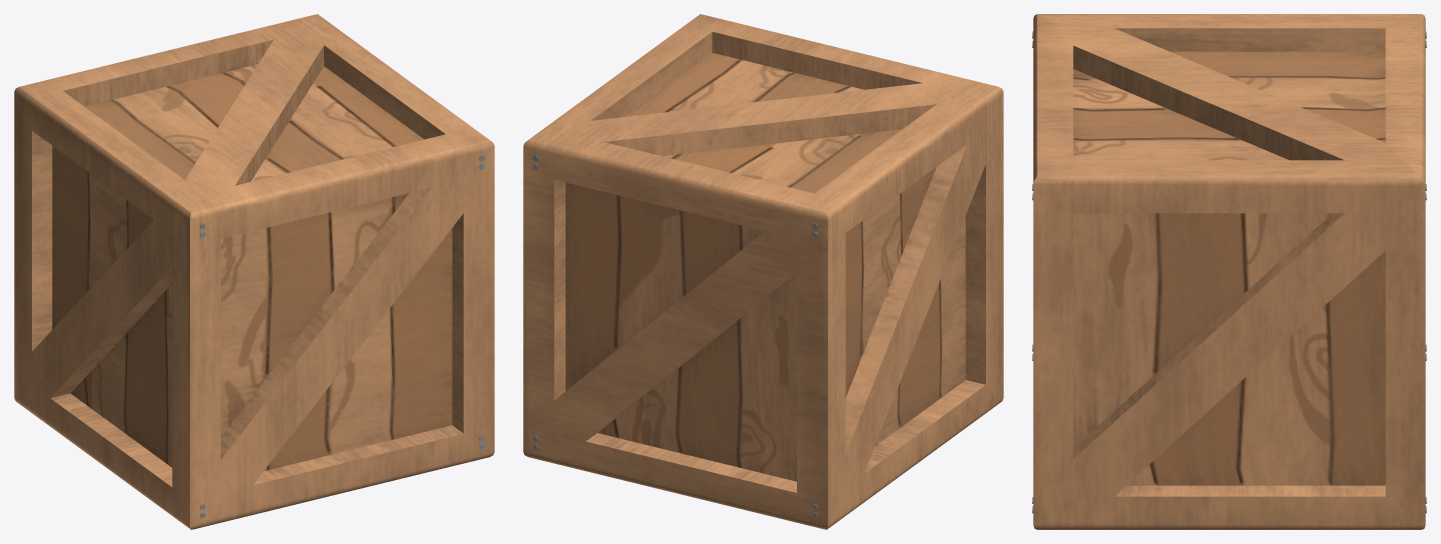
The model's file is wooden box_B.fbx.
The picture shows the model from 3 angles, left to right: view 1: azimuth 30°, elevation 25°; view 2: azimuth 150°, elevation 25°; view 3: azimuth 270°, elevation 25°; orthographic projection. The views are drawn at different scales.
Visible parts, largest first — view 1: wooden box_B; view 2: wooden box_B; view 3: wooden box_B.
Boxes of the visible parts, bbox=[...] form: wooden box_B: bbox=[14, 14, 494, 529]; wooden box_B: bbox=[523, 14, 1003, 529]; wooden box_B: bbox=[1033, 14, 1425, 529].
Bounding box in the file's own units: 56.72 × 56.72 × 57.01.
